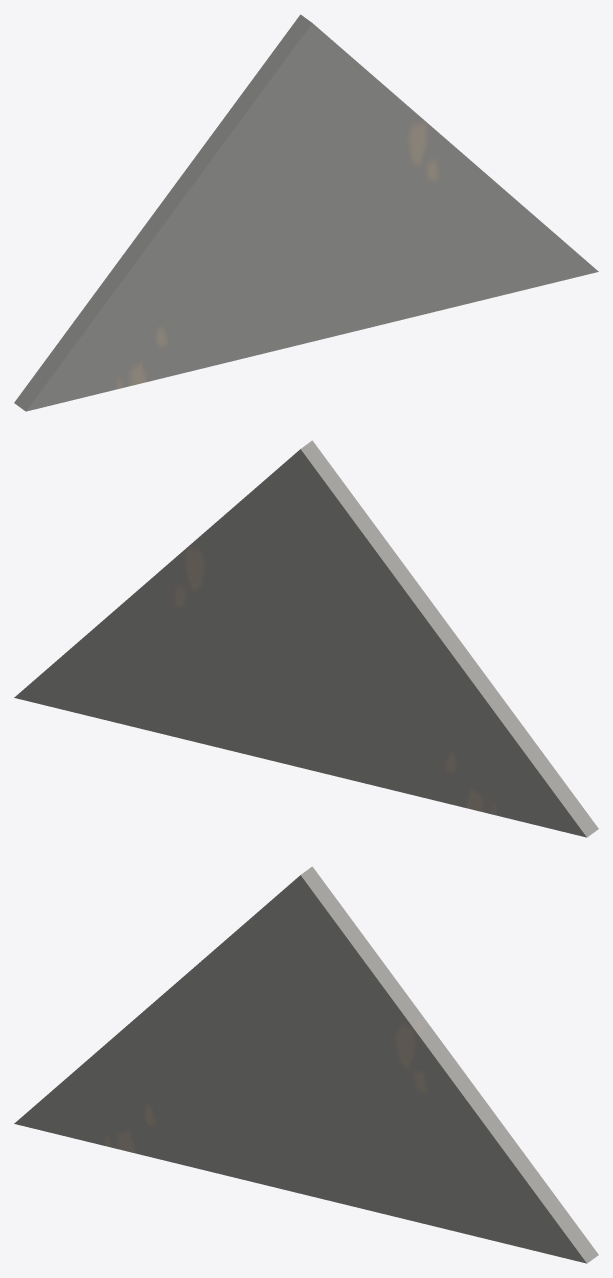
The picture shows the model from 3 angles, top to bottom: view 1: azimuth 30°, elevation 25°; view 2: azimuth 150°, elevation 25°; view 3: azimuth 330°, elevation 25°; orthographic projection.
Visible parts, largest first — view 1: SM_Bld_House_Wall_Peak_04; view 2: SM_Bld_House_Wall_Peak_04; view 3: SM_Bld_House_Wall_Peak_04.
Part boxes in pixels (x1,y1,x2,y2): SM_Bld_House_Wall_Peak_04: (14,14,598,411); SM_Bld_House_Wall_Peak_04: (14,440,598,837); SM_Bld_House_Wall_Peak_04: (14,866,598,1263).
Bounding box in the file's own units: 2.5 × 1.33 × 0.0897.
Materials: 1 (1 with a texture image).
